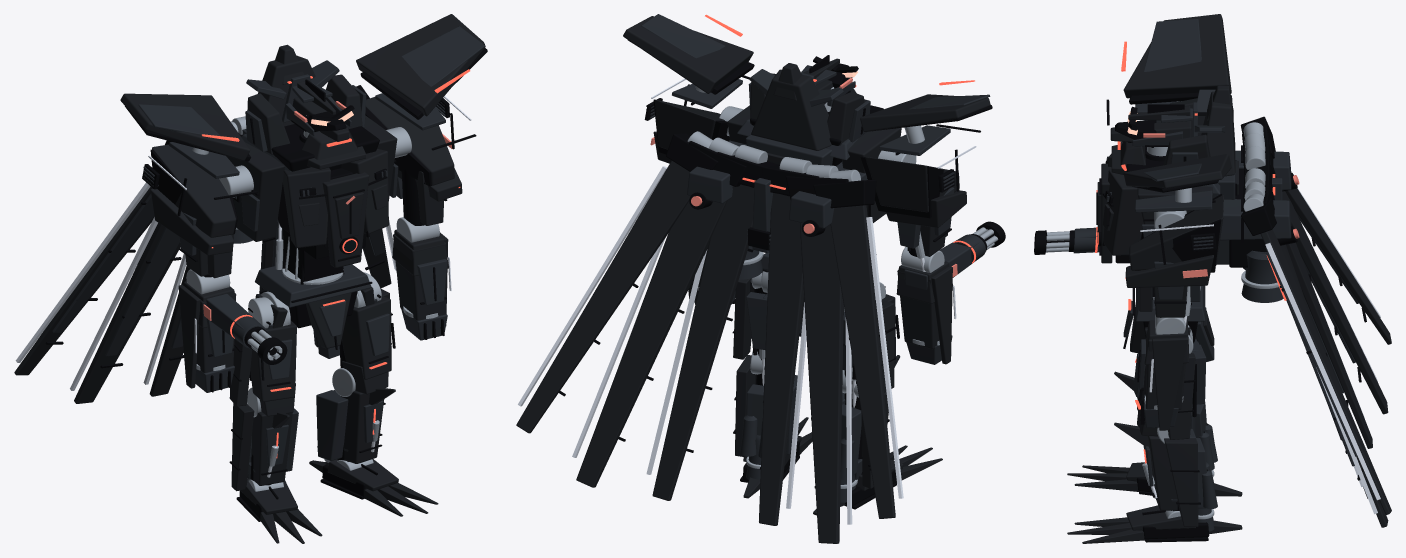
Rendered from mech_panzer.glb.
3 views of the same model, side by side, from view 1: azimuth 30°, elevation 25°; view 2: azimuth 150°, elevation 25°; view 3: azimuth 270°, elevation 25° (orthographic). The views are drawn at different scales.
Visible parts, largest first — view 1: Torso_body, Shoulder_R_body, Shoulder_L_body, Torso_under, Shoulder_L_plate, Hip_R_body, Knee_R_body, Hip_L_body, Torso_plate, Hatch_body, Pelvis_plate, Forearm_L_body (+36 smaller); view 2: Wing2_L_body, Wing2_R_body, Wing1_L_body, Wing1_R_body, Wing3_R_body, Wing3_L_body, Torso_body, Shoulder_R_body, Shoulder_L_body, Forearm_R_body, Torso_plate, Shoulder_L_plate (+32 smaller); view 3: Torso_body, Shoulder_L_body, Shoulder_R_body, Knee_L_body, Forearm_L_body, Wing2_R_body, Shoulder_R_plate, Foot_L_body, Wing1_R_body, Wing3_L_body, Wing3_R_body, Shoulder_L_plate (+34 smaller).
Part boxes in pixels (left/top/right/bottom): Torso_body: left=226, top=44, right=397, bottom=248; Shoulder_R_body: left=120, top=93, right=250, bottom=255; Shoulder_L_body: left=356, top=14, right=485, bottom=201; Torso_under: left=233, top=118, right=396, bottom=284; Shoulder_L_plate: left=375, top=26, right=485, bottom=130; Hip_R_body: left=229, top=320, right=296, bottom=416; Knee_R_body: left=231, top=403, right=292, bottom=491; Hip_L_body: left=342, top=288, right=391, bottom=394; Torso_plate: left=234, top=60, right=398, bottom=231; Hatch_body: left=322, top=172, right=369, bottom=267; Pelvis_plate: left=255, top=264, right=377, bottom=336; Forearm_L_body: left=392, top=229, right=448, bottom=325; Wing2_L_body: left=576, top=186, right=733, bottom=487; Wing2_R_body: left=800, top=223, right=843, bottom=543; Wing1_L_body: left=652, top=184, right=753, bottom=500; Wing1_R_body: left=759, top=193, right=803, bottom=525; Wing3_R_body: left=830, top=205, right=895, bottom=518; Wing3_L_body: left=516, top=160, right=690, bottom=433; Torso_body: left=727, top=63, right=901, bottom=222; Shoulder_R_body: left=860, top=94, right=990, bottom=227; Shoulder_L_body: left=623, top=16, right=753, bottom=163; Forearm_R_body: left=896, top=261, right=953, bottom=364; Torso_plate: left=737, top=69, right=870, bottom=165; Shoulder_L_plate: left=641, top=14, right=742, bottom=118; Torso_body: left=1102, top=85, right=1238, bottom=255; Shoulder_L_body: left=1123, top=154, right=1231, bottom=287; Shoulder_R_body: left=1123, top=14, right=1231, bottom=98; Knee_L_body: left=1114, top=422, right=1198, bottom=526; Forearm_L_body: left=1144, top=319, right=1188, bottom=430; Wing2_R_body: left=1282, top=191, right=1388, bottom=414; Shoulder_R_plate: left=1135, top=19, right=1201, bottom=113; Foot_L_body: left=1067, top=505, right=1242, bottom=543; Wing1_R_body: left=1286, top=242, right=1372, bottom=448; Wing3_L_body: left=1260, top=229, right=1391, bottom=514; Wing3_R_body: left=1285, top=188, right=1391, bottom=344; Shoulder_L_plate: left=1135, top=163, right=1213, bottom=249.
Bounding box in the file's own units: 6.2 × 6.72 × 5.11.
